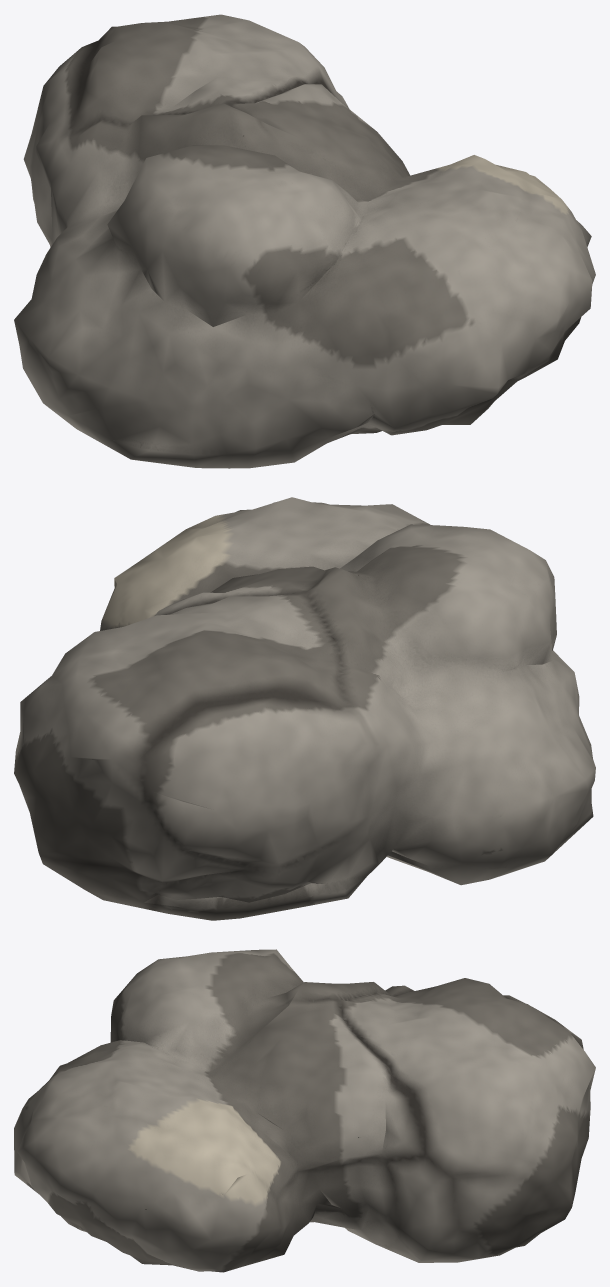
File: grava_compacta.fbx
3 renders of one model, top to bottom at view 1: azimuth 30°, elevation 25°; view 2: azimuth 150°, elevation 25°; view 3: azimuth 270°, elevation 25°, orthographic. The views are drawn at different scales.
Parts seen in each view (by area): view 1: grava_compacta; view 2: grava_compacta; view 3: grava_compacta.
Boxes of the visible parts, x1=… form: grava_compacta: x1=14, y1=14, x2=595, y2=468; grava_compacta: x1=14, y1=497, x2=595, y2=920; grava_compacta: x1=14, y1=949, x2=595, y2=1272.
Size of the model in its own units: 1.5 by 0.7438 by 1.78.
1 material, 1 textured.
